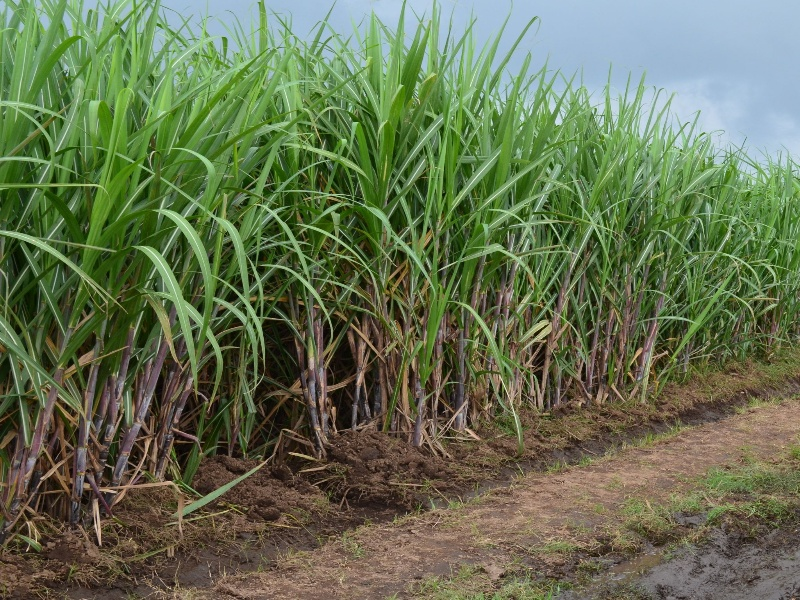sugarcane: (3, 1, 530, 547), (452, 53, 800, 420)
